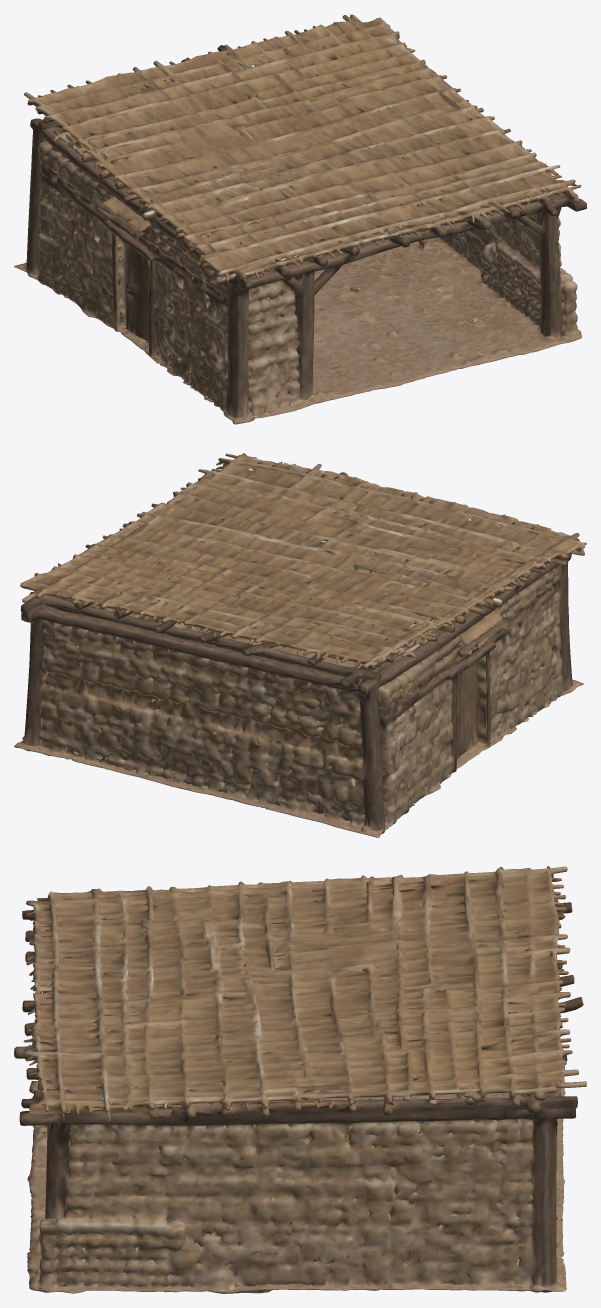
Rendered from square-nativity-stall.glb.
The picture shows the model from 3 angles, top to bottom: view 1: azimuth 30°, elevation 25°; view 2: azimuth 150°, elevation 25°; view 3: azimuth 270°, elevation 25°; orthographic projection. The views are drawn at different scales.
Visible parts, largest first — view 1: geometry_0; view 2: geometry_0; view 3: geometry_0.
Part boxes in pixels (x1,y1,x2,y2): geometry_0: (14,14,586,424); geometry_0: (14,453,586,837); geometry_0: (14,866,586,1293).
Size of the model in its own units: 7.12 by 3.21 by 7.52.
Materials: 1 (1 with a texture image).
